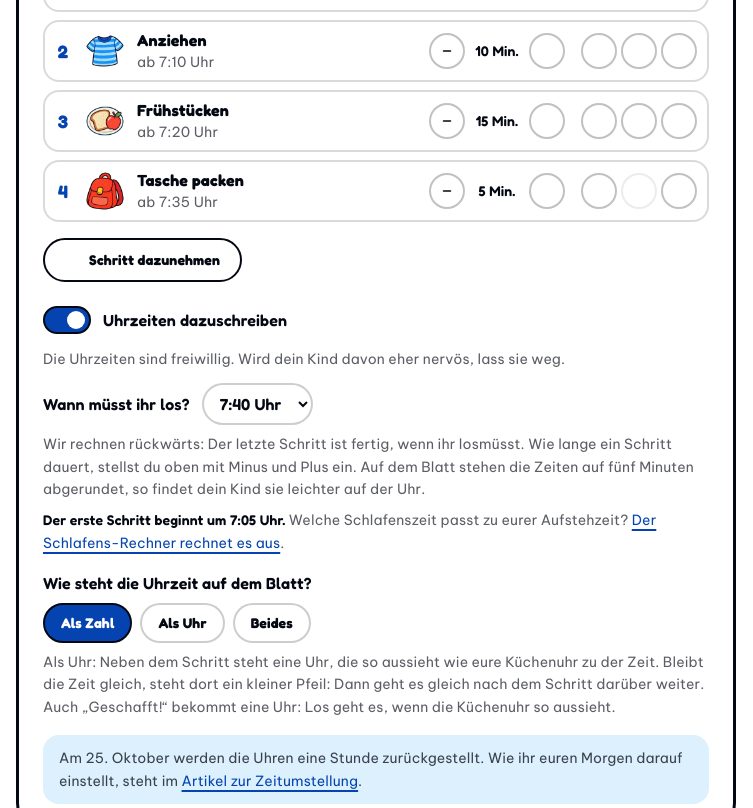
Scenario: Wake-up line on the morning builder › names the first step otherwise and follows the leave time
This screenshot has width=753, height=808.
(page scrolled)
Expected: the text "Der erste Schritt beginnt um 7:05 Uhr." is shown, [43,511,285,528]
Select "7:00 Uhr" in the dropdown labelled "Wann müsst ihr los?" at (257,404), box [202,383,313,425]
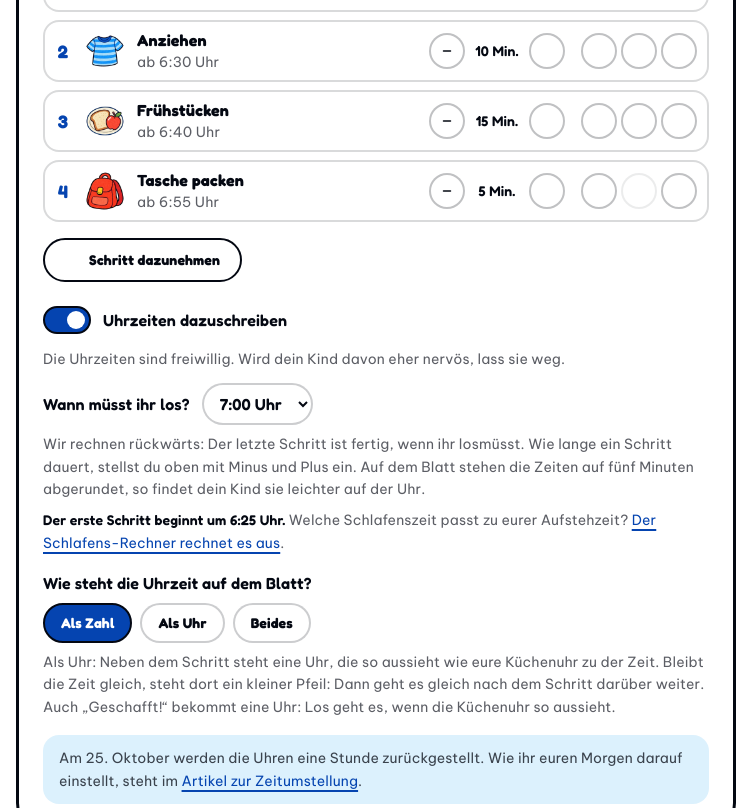
Now the text "Der erste Schritt beginnt um 6:25 Uhr." is shown, box [43,511,285,528]
